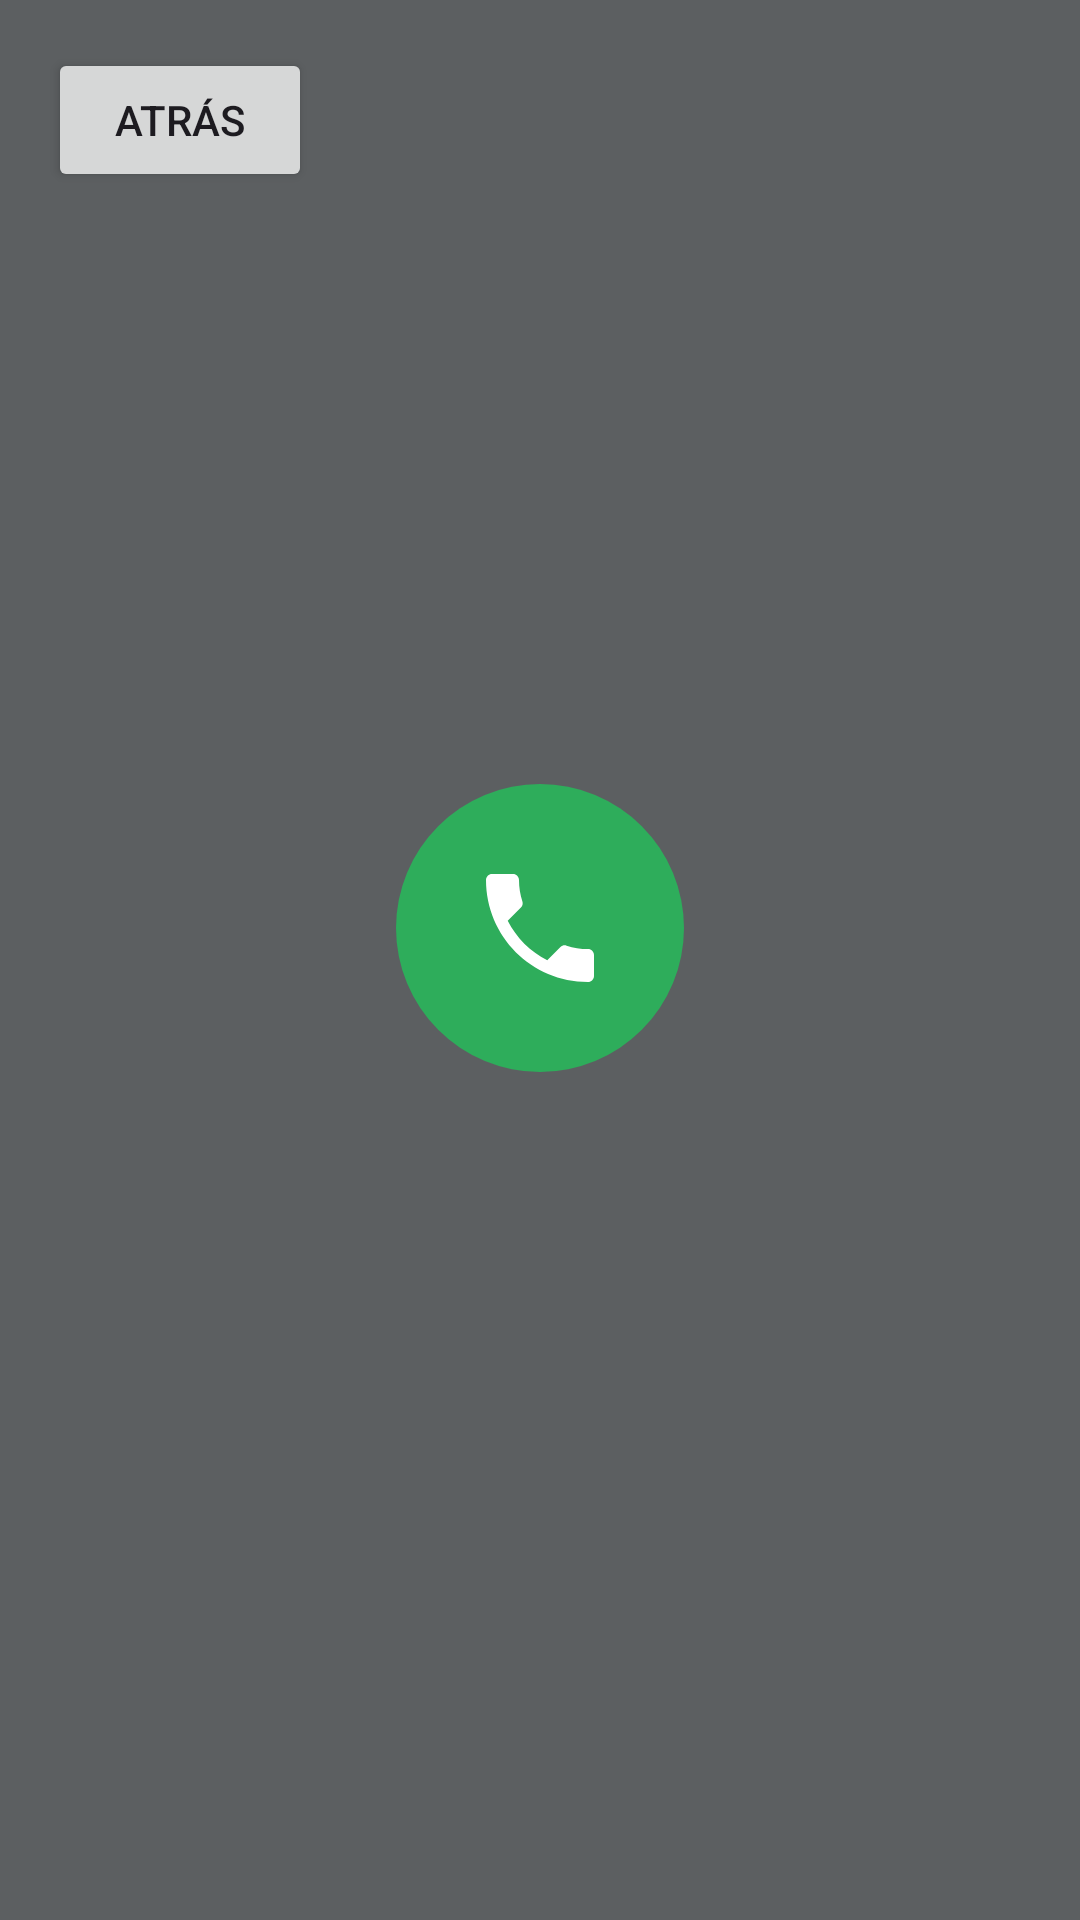

Where icons sit on this 1080×1920 app screen, as (x1,y1,x2,y2):
Llamar: (396,784,684,1072)
